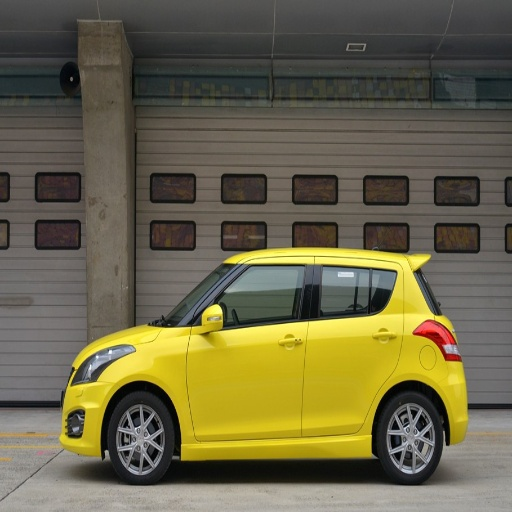back_left_door: (302, 259, 400, 431)
front_left_door: (187, 260, 314, 442)
